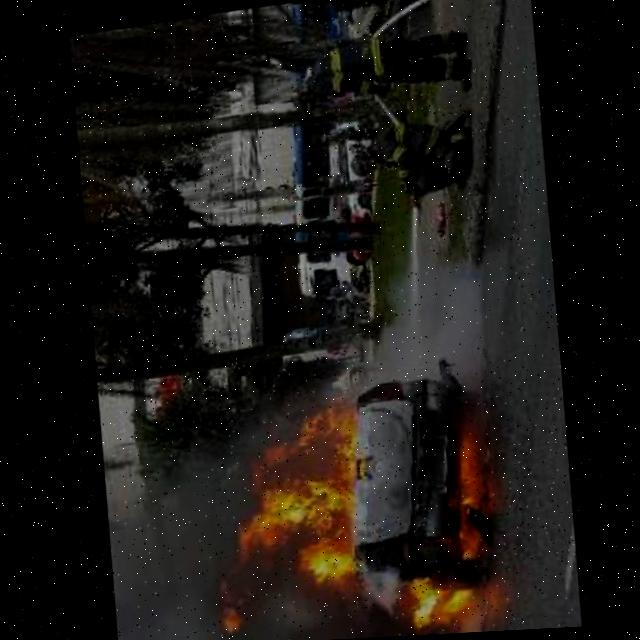fire: (193, 391, 395, 634), (386, 424, 510, 628)
